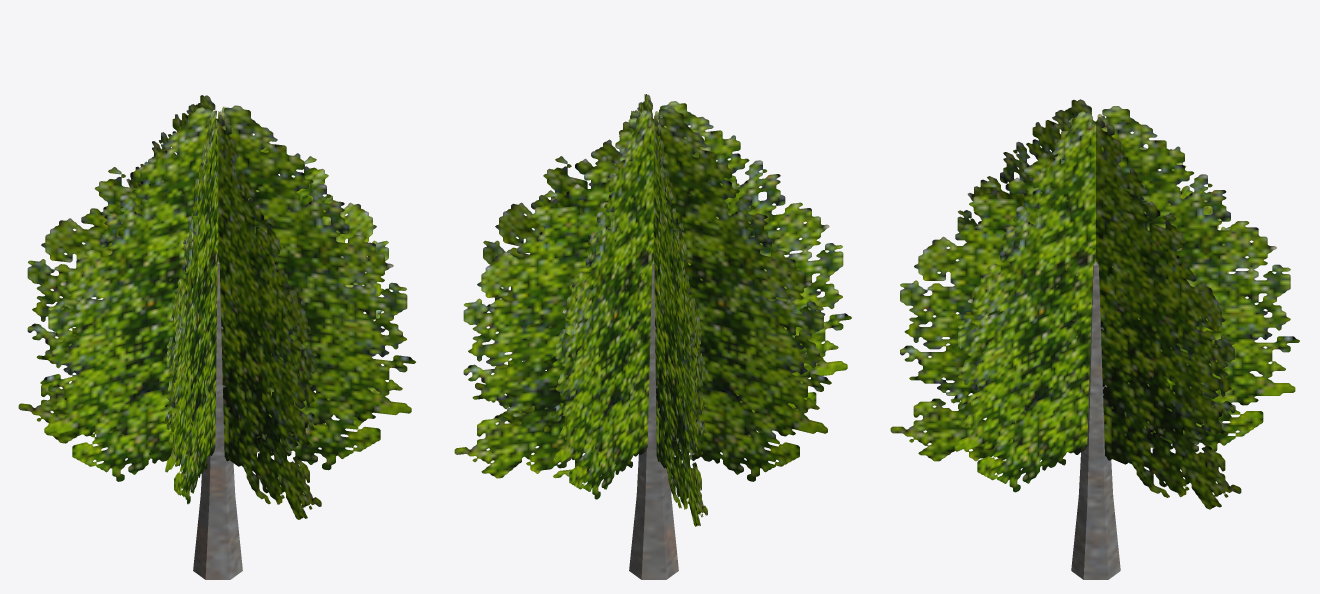
Rendered from tree16.glb.
The picture shows the model from 3 angles, left to right: view 1: azimuth 30°, elevation 25°; view 2: azimuth 150°, elevation 25°; view 3: azimuth 270°, elevation 25°; orthographic projection.
Parts seen in each view (by area): view 1: tree16; view 2: tree16; view 3: tree16.
Boxes of the visible parts, <box> form: tree16: <box>18,95,415,579</box>; tree16: <box>454,94,851,579</box>; tree16: <box>890,99,1299,579</box>.
Size of the model in its own units: 10.14 by 12.5 by 10.14.
Materials: 1 (1 with a texture image).
